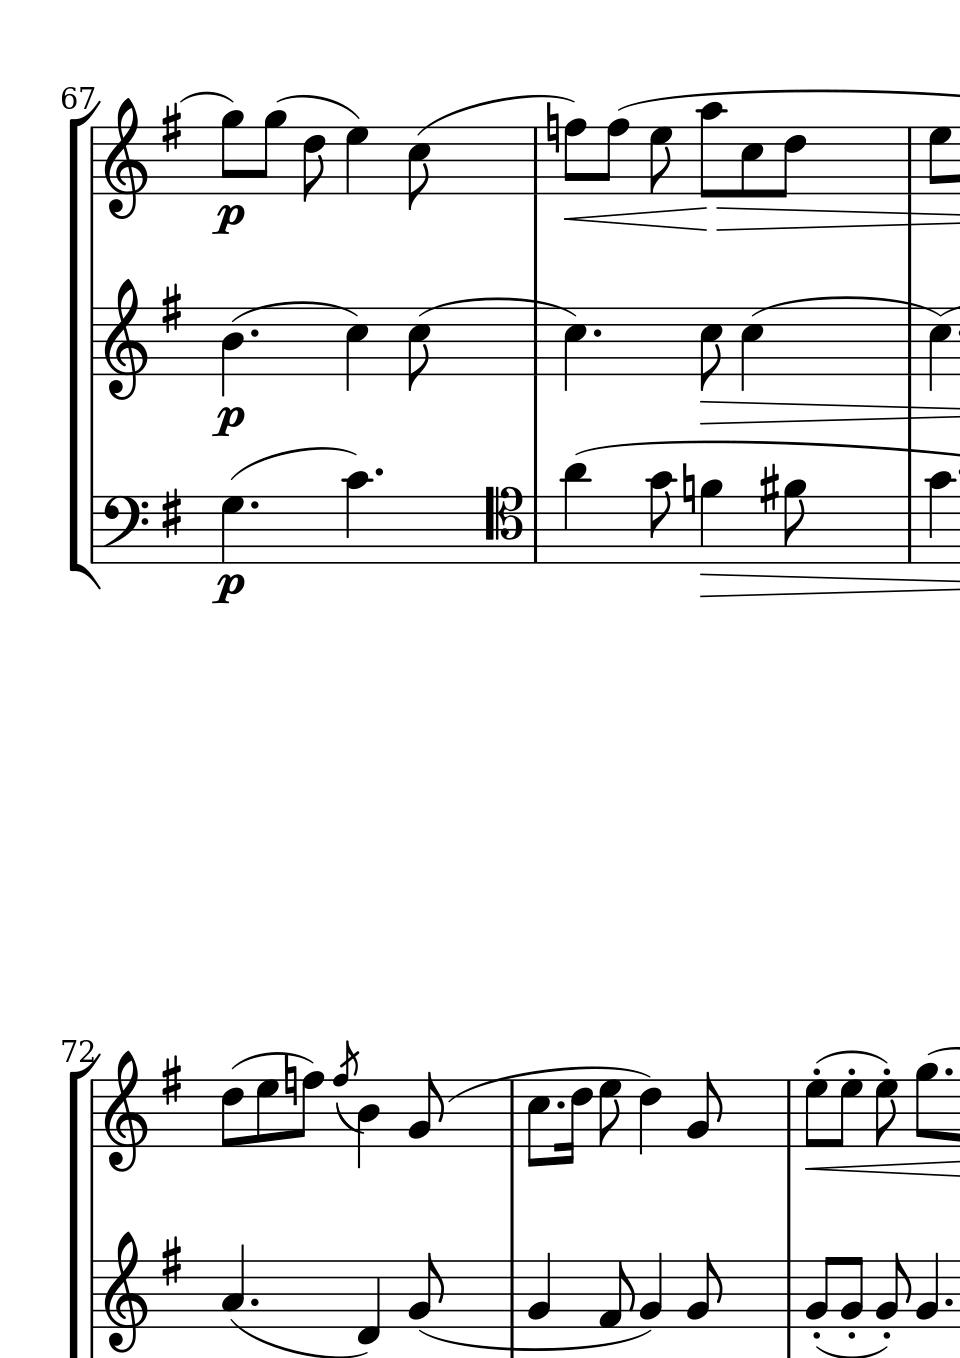16_6: (556, 1079, 593, 1166)
2: (76, 1038, 96, 1063)
4_-1: (354, 1258, 381, 1347)
4_10: (923, 469, 955, 568), (341, 470, 370, 566)
4_11: (560, 461, 588, 565)
4_2: (526, 1251, 554, 1329), (639, 1250, 664, 1330), (915, 1250, 940, 1329)
4_3: (219, 1243, 246, 1330)
4_4: (219, 307, 244, 398), (355, 1079, 380, 1170)
4_5: (926, 307, 953, 394), (343, 307, 369, 394), (561, 307, 587, 393), (739, 307, 764, 393)
4_6: (637, 1079, 662, 1156)
4_7: (219, 495, 246, 565), (344, 125, 369, 196)
4_9: (698, 477, 722, 565)
6: (59, 83, 77, 111)
7: (60, 1037, 77, 1064), (79, 83, 95, 109)
8_1: (596, 1259, 635, 1330)
8_10: (698, 99, 725, 201), (646, 469, 674, 566)
8_2: (874, 1251, 912, 1329), (686, 1251, 723, 1329), (686, 1071, 723, 1148), (407, 1251, 445, 1328), (407, 1071, 444, 1147), (803, 1254, 834, 1329), (838, 1255, 865, 1330)
8_5: (525, 1079, 551, 1168), (405, 307, 431, 392), (698, 307, 723, 393), (406, 126, 431, 211), (738, 125, 763, 199)
8_6: (774, 125, 806, 199), (301, 125, 326, 202), (219, 1079, 245, 1150)
8_7: (832, 1079, 863, 1149), (255, 1079, 281, 1148), (648, 126, 673, 196), (927, 125, 952, 195), (803, 1079, 828, 1149), (873, 1079, 898, 1148), (596, 1079, 621, 1146)
8_8: (596, 117, 629, 197), (293, 1069, 323, 1149), (561, 117, 586, 197)
8_9: (254, 109, 287, 197), (218, 109, 245, 195), (781, 478, 807, 566), (913, 1062, 939, 1149)
Acciaccature: (331, 1038, 359, 1151)
Bracke: (69, 96, 100, 595), (66, 1058, 98, 1357)
Crescendo_hairpin: (562, 207, 709, 233)
Fclef: (100, 494, 150, 566)
Gclef: (101, 276, 150, 400), (101, 97, 149, 221), (101, 1049, 149, 1173), (102, 1229, 149, 1354)
Natural: (281, 1054, 298, 1107), (679, 462, 696, 516), (544, 100, 560, 156)
Sharp: (159, 486, 184, 541), (160, 101, 184, 154), (159, 282, 182, 334), (159, 1054, 182, 1106), (159, 1235, 182, 1285), (757, 462, 779, 514)
Single_barline: (902, 127, 921, 220), (780, 1260, 797, 1329), (780, 1080, 797, 1147), (528, 128, 544, 193), (504, 1260, 519, 1329), (84, 127, 100, 194), (528, 495, 543, 562), (903, 495, 918, 562), (84, 1080, 100, 1147), (85, 1260, 101, 1328), (84, 308, 100, 374), (528, 313, 544, 374), (85, 496, 100, 563), (505, 1083, 519, 1148), (903, 319, 918, 375)
Slur: (449, 1062, 648, 1102), (417, 91, 578, 135), (229, 1315, 365, 1358), (228, 444, 358, 480), (419, 1330, 649, 1350), (416, 294, 580, 317), (751, 296, 940, 316), (231, 297, 359, 321), (273, 94, 362, 121), (231, 1050, 315, 1070), (816, 1049, 887, 1065), (815, 1344, 889, 1358), (178, 91, 235, 105)
Tensor_Cclef: (482, 484, 523, 564)
dot: (247, 1294, 261, 1310), (590, 326, 604, 341), (373, 465, 385, 481), (943, 1294, 955, 1310), (553, 1098, 566, 1112), (248, 498, 260, 513), (248, 327, 260, 341), (942, 1066, 954, 1079)
p: (211, 405, 247, 442), (211, 571, 246, 609), (211, 203, 245, 238)
